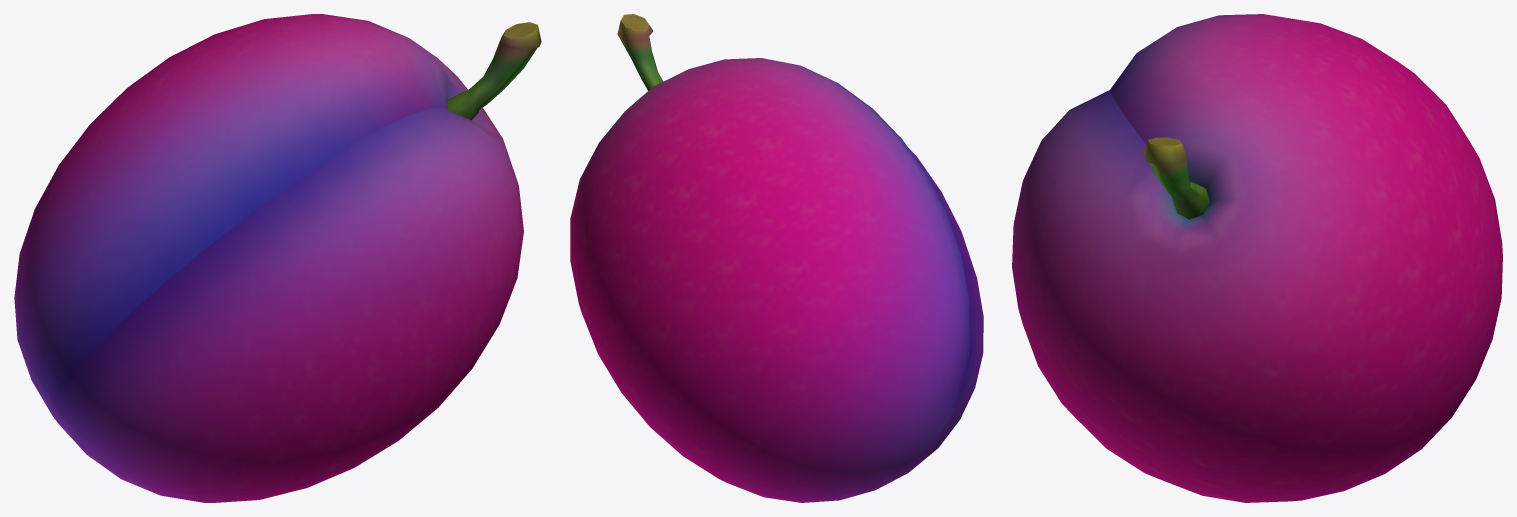
Rendered from plum_final.glb.
3 renders of one model, left to right at view 1: azimuth 30°, elevation 25°; view 2: azimuth 150°, elevation 25°; view 3: azimuth 270°, elevation 25°, orthographic. The views are drawn at different scales.
Parts seen in each view (by area): view 1: plum; view 2: plum; view 3: plum.
Part boxes in pixels (box(x1,y1,x2,y2)): plum: box(14, 14, 541, 502); plum: box(570, 14, 983, 502); plum: box(1012, 14, 1502, 502).
Size of the model in its own units: 0.9125 by 0.8627 by 0.8043.
1 material, 1 textured.
